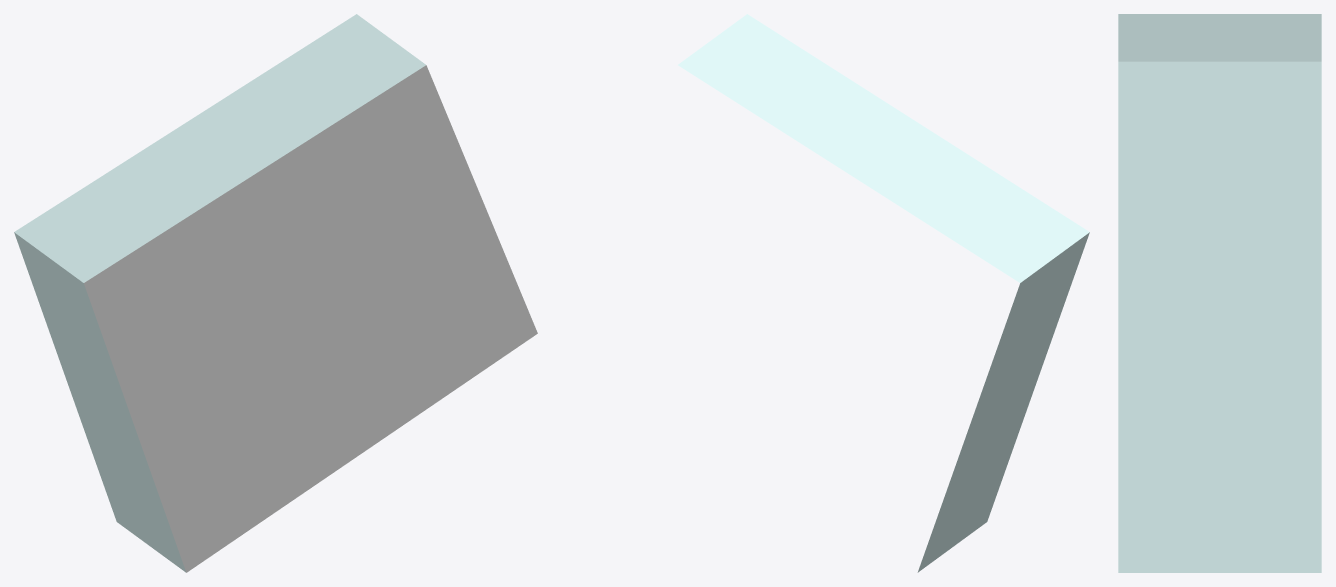
3 renders of one model, left to right at view 1: azimuth 30°, elevation 25°; view 2: azimuth 150°, elevation 25°; view 3: azimuth 270°, elevation 25°, orthographic. The views are drawn at different scales.
Parts seen in each view (by area): view 1: 0_3_1_3_1_2_0_1_2; view 2: 0_3_1_3_1_2_0_1_2; view 3: 0_3_1_3_1_2_0_1_2.
Part boxes in pixels (left/top/right/bottom): 0_3_1_3_1_2_0_1_2: left=14, top=14, right=537, bottom=572; 0_3_1_3_1_2_0_1_2: left=678, top=14, right=1089, bottom=572; 0_3_1_3_1_2_0_1_2: left=1118, top=14, right=1321, bottom=572.
Bounding box in the file's own units: 11.28 × 10.67 × 3.
